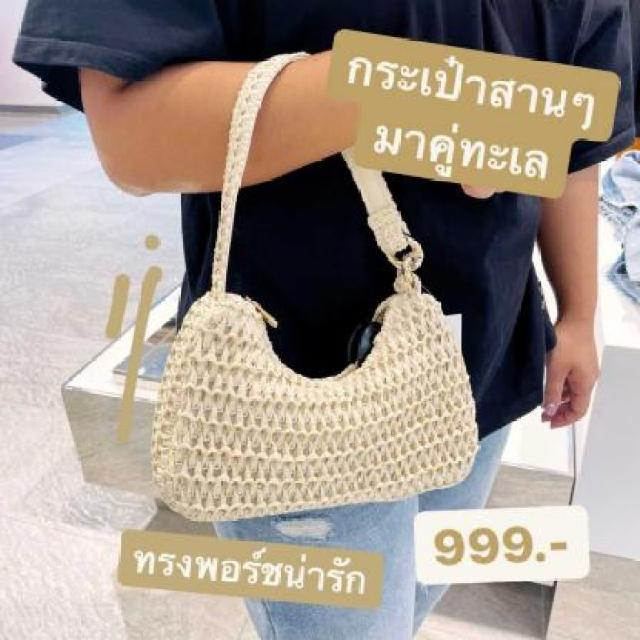Bag: (146, 30, 512, 528)
